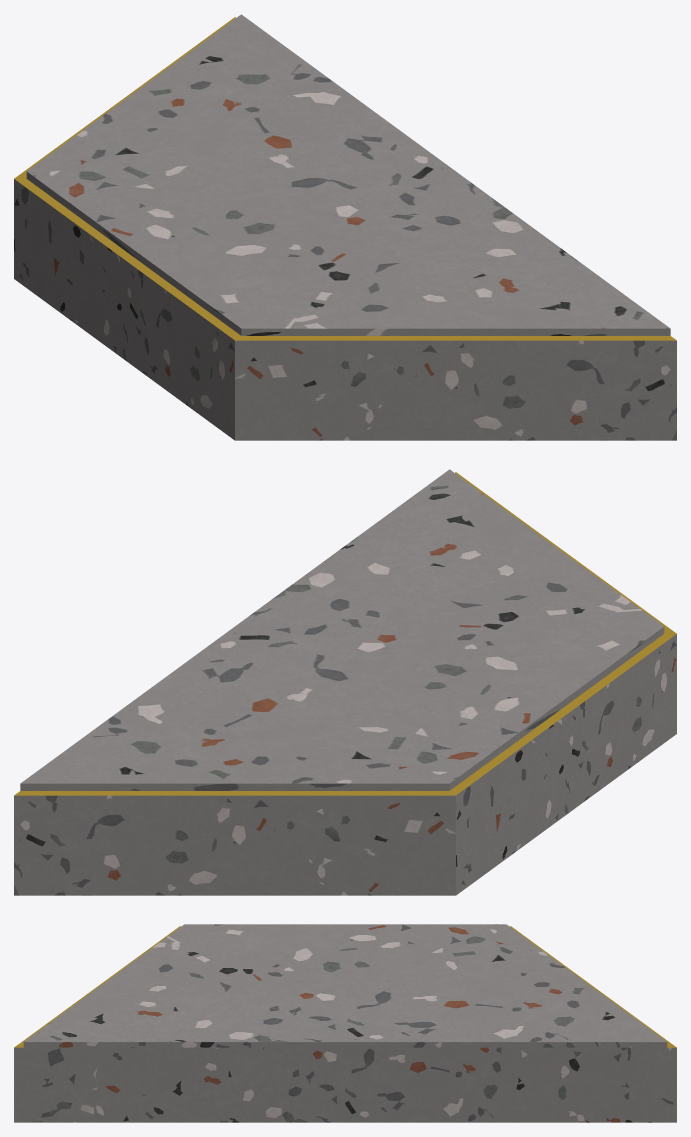
File: terrazzoTile_half.fbx
3 renders of one model, top to bottom at view 1: azimuth 30°, elevation 25°; view 2: azimuth 150°, elevation 25°; view 3: azimuth 270°, elevation 25°, orthographic. The views are drawn at different scales.
Visible parts, largest first — view 1: terrazzoTile_half; view 2: terrazzoTile_half; view 3: terrazzoTile_half.
Part boxes in pixels (x1,y1,x2,y2): terrazzoTile_half: (14,14,676,440); terrazzoTile_half: (14,469,676,895); terrazzoTile_half: (14,924,676,1122).
Size of the model in its own units: 100 by 30.98 by 231.
